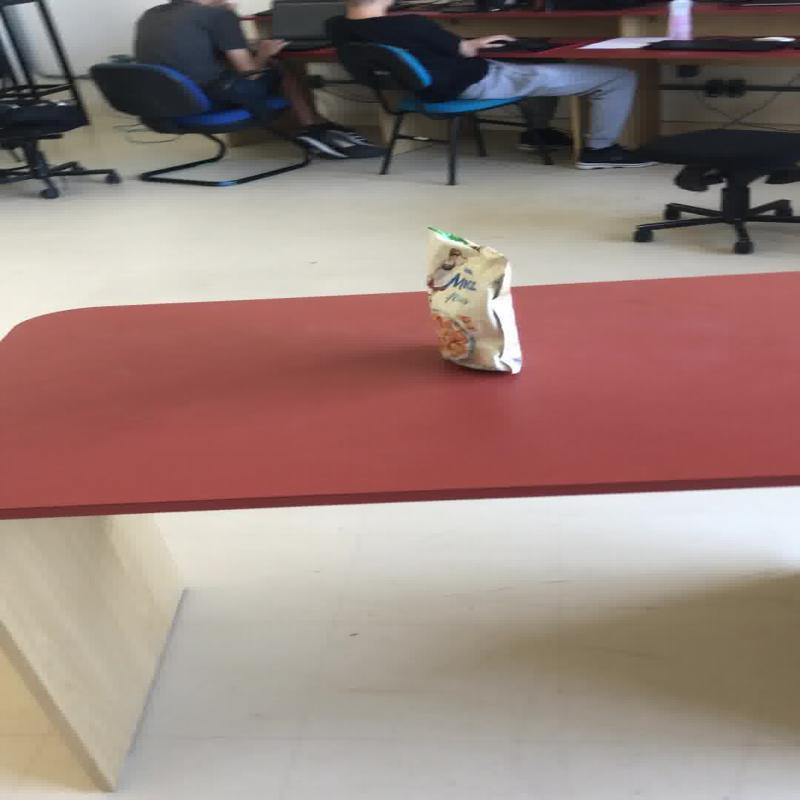corn flakes: (422, 225, 522, 374)
